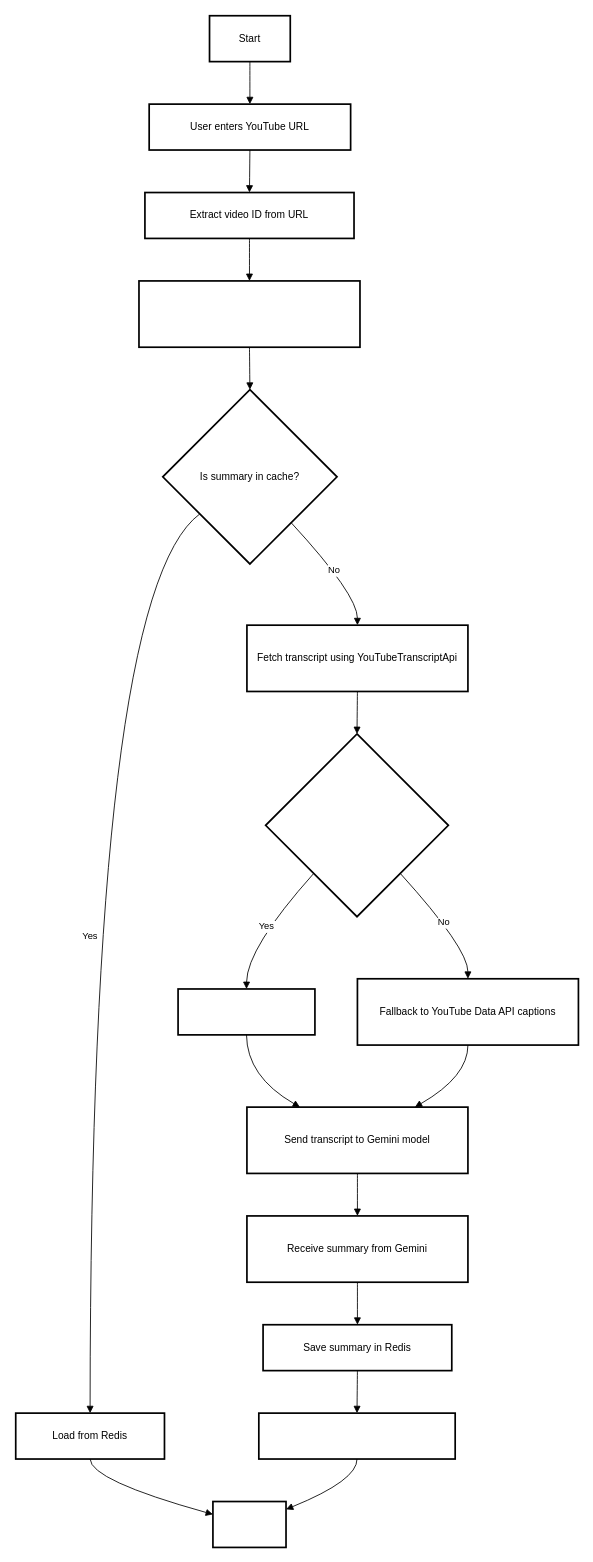
The diagram is 593 pixels wide and 1562 high, and some of its shapes have lost their labels. Each missing label, with the centre of its shape:
"Check Redis cache for summary" belongs at [249,314].
"End" belongs at [249,1524].
"Is transcript available?" belongs at [356,825].
"Return summary to user" belongs at [357,1435].
"Use transcript" belongs at [246,1011].
